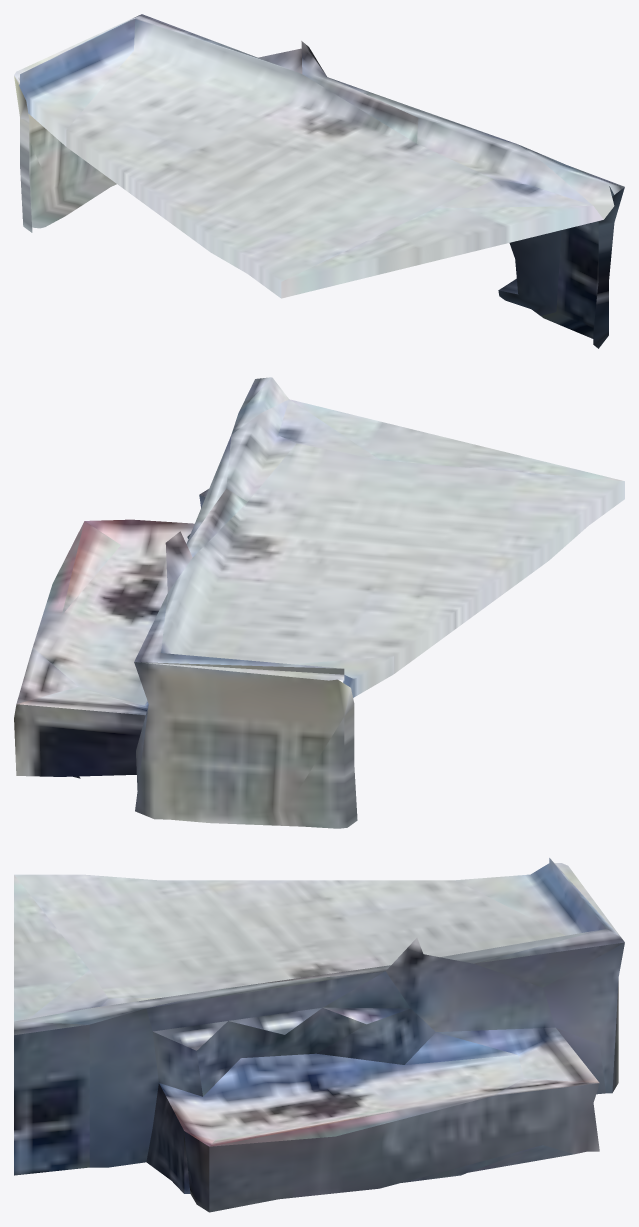
3 views of the same model, one above another, from view 1: azimuth 30°, elevation 25°; view 2: azimuth 150°, elevation 25°; view 3: azimuth 270°, elevation 25° (orthographic). The views are drawn at different scales.
Visible parts, largest first — view 1: 30436272704370426636_0; view 2: 30436272704370426636_0; view 3: 30436272704370426636_0.
Boxes of the visible parts, bbox=[...] form: 30436272704370426636_0: bbox=[14, 14, 624, 348]; 30436272704370426636_0: bbox=[14, 377, 624, 828]; 30436272704370426636_0: bbox=[14, 858, 624, 1212].
Size of the model in its own units: 11.82 by 5.24 by 14.96.
1 material, 1 textured.
